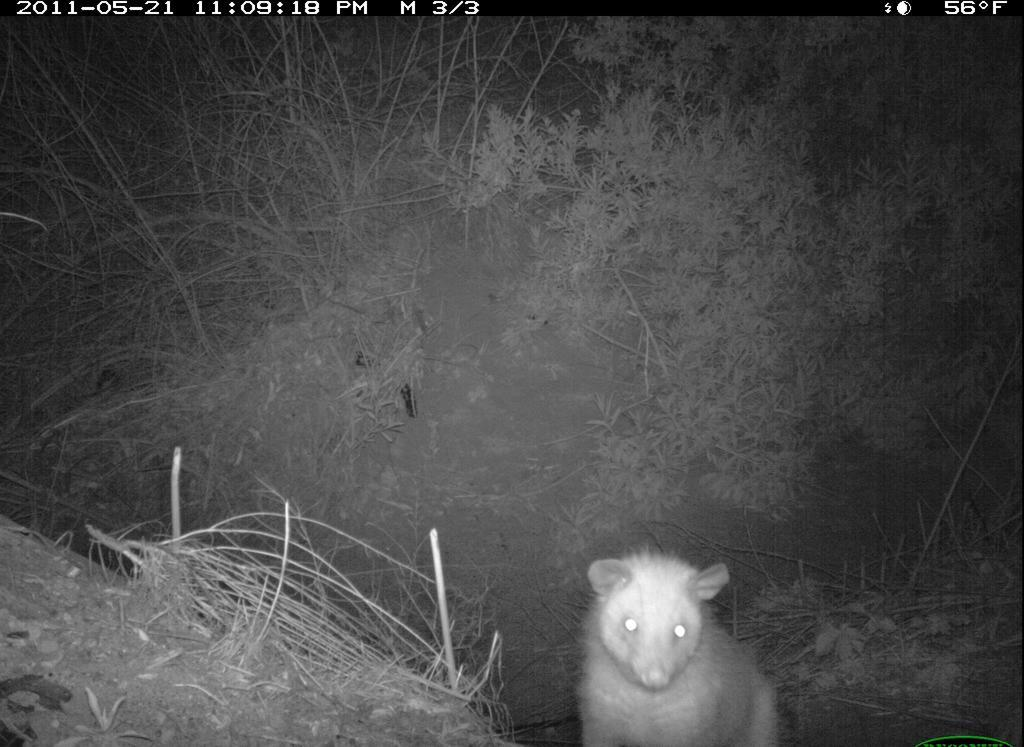opossum: (562, 547, 783, 747)
